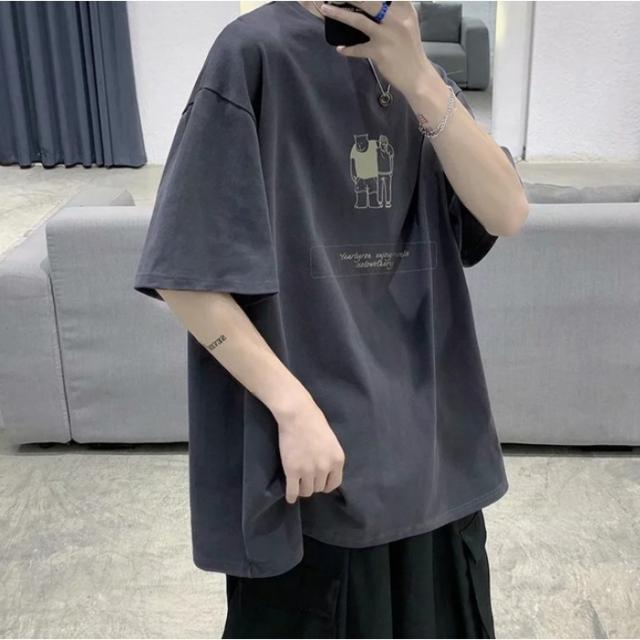Shirt: (129, 0, 532, 586)
